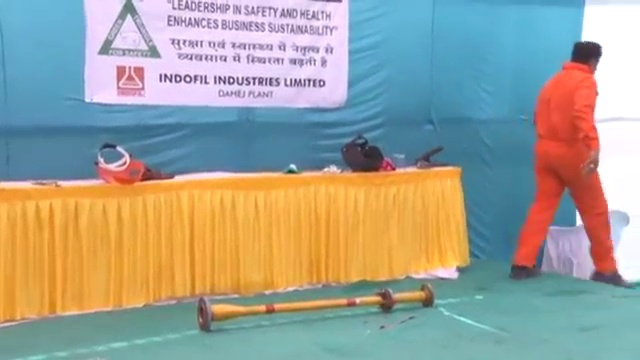helmet_off: (569, 39, 601, 73)
person: (509, 36, 632, 283)
